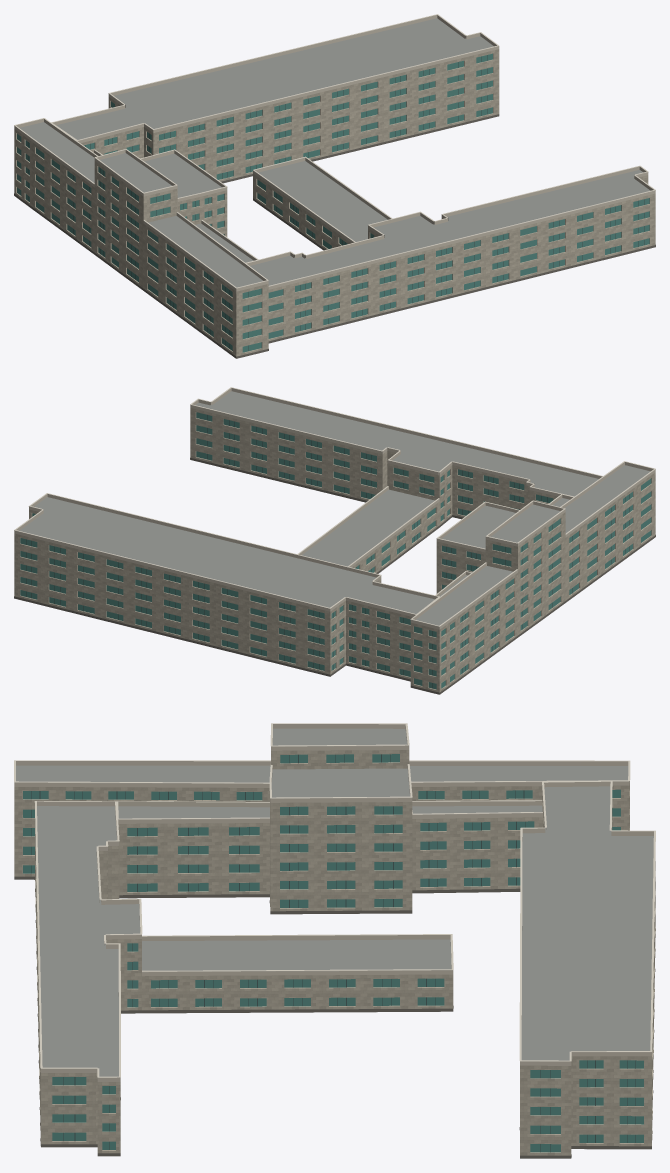
3 views of the same model, one above another, from view 1: azimuth 30°, elevation 25°; view 2: azimuth 150°, elevation 25°; view 3: azimuth 270°, elevation 25° (orthographic). The views are drawn at different scales.
Visible parts, largest first — view 1: engineering__wall, engineering__roof, engineering__glass, engineering__parapet, engineering__trim, engineering__base, engineering__frame; view 2: engineering__wall, engineering__roof, engineering__glass, engineering__parapet, engineering__trim, engineering__base, engineering__frame; view 3: engineering__roof, engineering__wall, engineering__glass, engineering__parapet, engineering__trim, engineering__base, engineering__frame.
Boxes of the visible parts, x1,y1,x2,y2 form: engineering__wall: (14, 49, 655, 356); engineering__roof: (20, 18, 650, 287); engineering__glass: (17, 53, 649, 352); engineering__parapet: (14, 15, 655, 291); engineering__trim: (14, 14, 655, 288); engineering__base: (14, 114, 655, 358); engineering__frame: (28, 55, 644, 350); engineering__wall: (14, 408, 655, 692); engineering__roof: (19, 391, 650, 625); engineering__glass: (20, 412, 651, 689); engineering__parapet: (14, 388, 655, 629); engineering__trim: (14, 387, 655, 626); engineering__base: (14, 457, 655, 694); engineering__frame: (26, 415, 629, 688); engineering__roof: (16, 728, 653, 1149); engineering__wall: (14, 750, 655, 1155); engineering__glass: (23, 754, 643, 1152); engineering__parapet: (14, 724, 653, 1081); engineering__trim: (14, 723, 655, 1077); engineering__base: (14, 876, 655, 1158); engineering__frame: (31, 754, 635, 1152).
Bounding box in the file's own units: 125 × 26.12 × 113.
7 materials, 1 textured.
